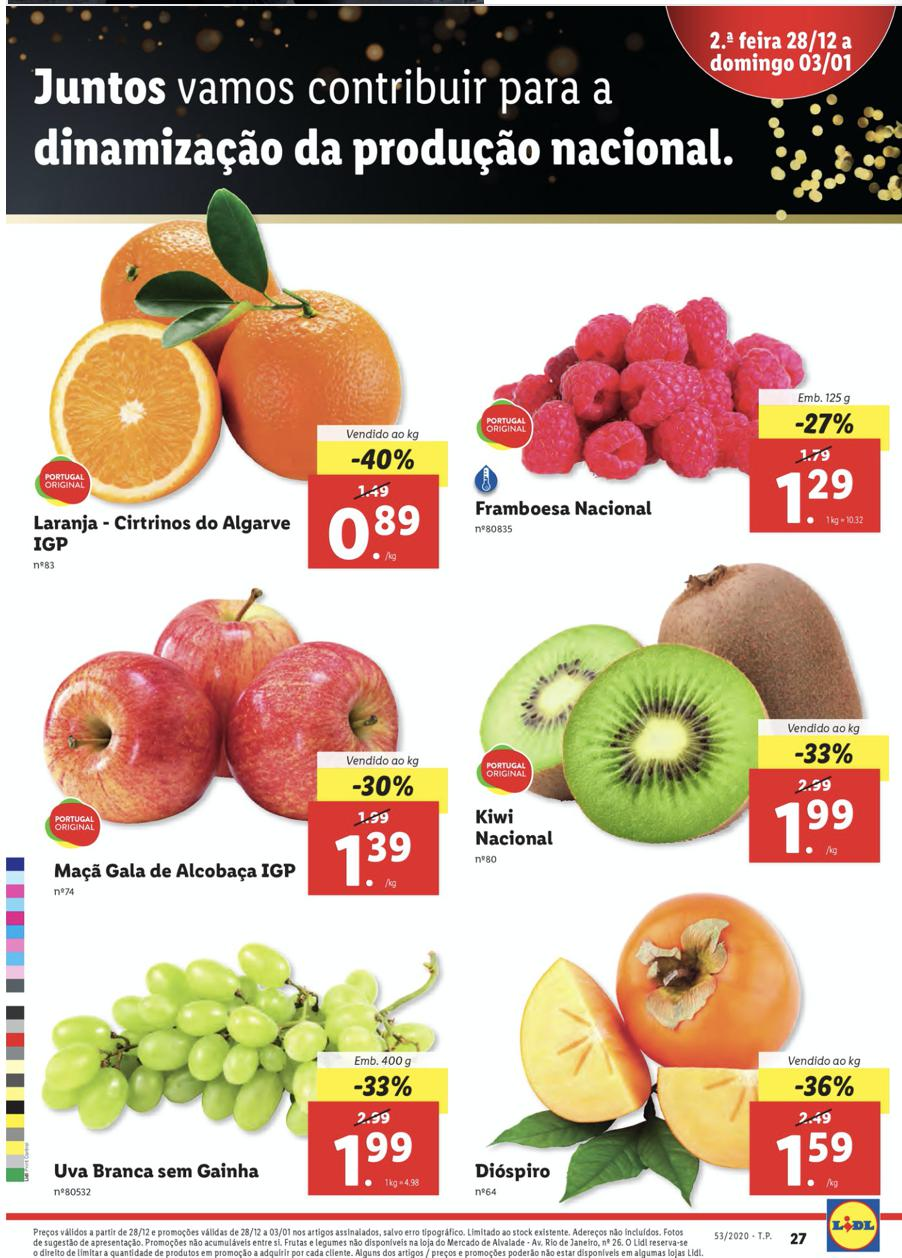name: (29, 508, 297, 553), (51, 861, 302, 887), (52, 1159, 265, 1189), (469, 806, 558, 855), (472, 498, 660, 520), (474, 1159, 554, 1184)
product: (18, 212, 438, 594), (10, 584, 447, 905), (458, 553, 886, 878), (466, 878, 886, 1205), (32, 905, 447, 1200), (458, 278, 888, 553)
